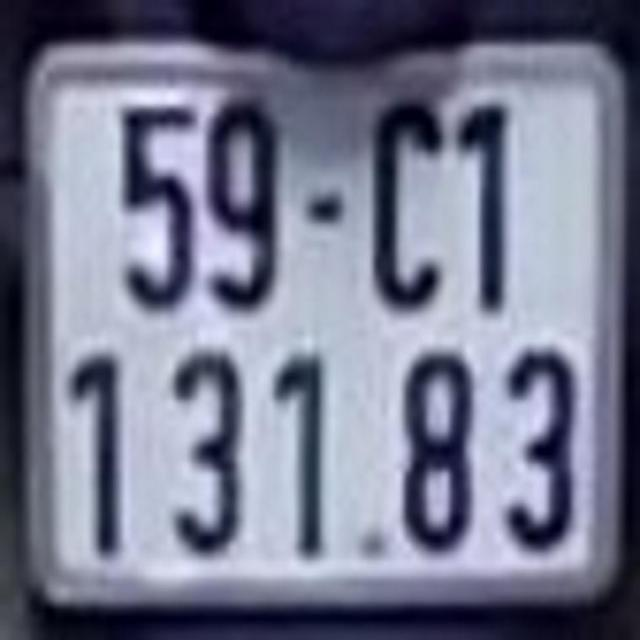1: (458, 103, 519, 308), (73, 356, 135, 548), (270, 348, 328, 548)
3: (165, 339, 246, 544), (503, 338, 574, 551)
5: (116, 107, 194, 303)
8: (401, 343, 474, 547)
9: (202, 106, 281, 309)
C: (370, 100, 449, 310)
